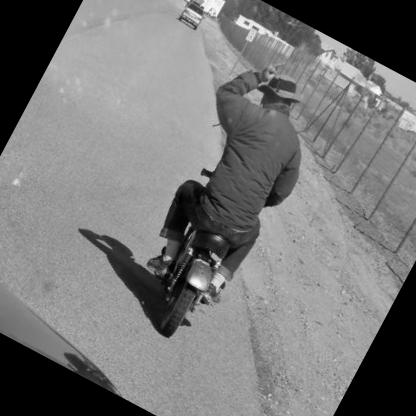car: (172, 1, 215, 35)
moto: (92, 152, 295, 366)
